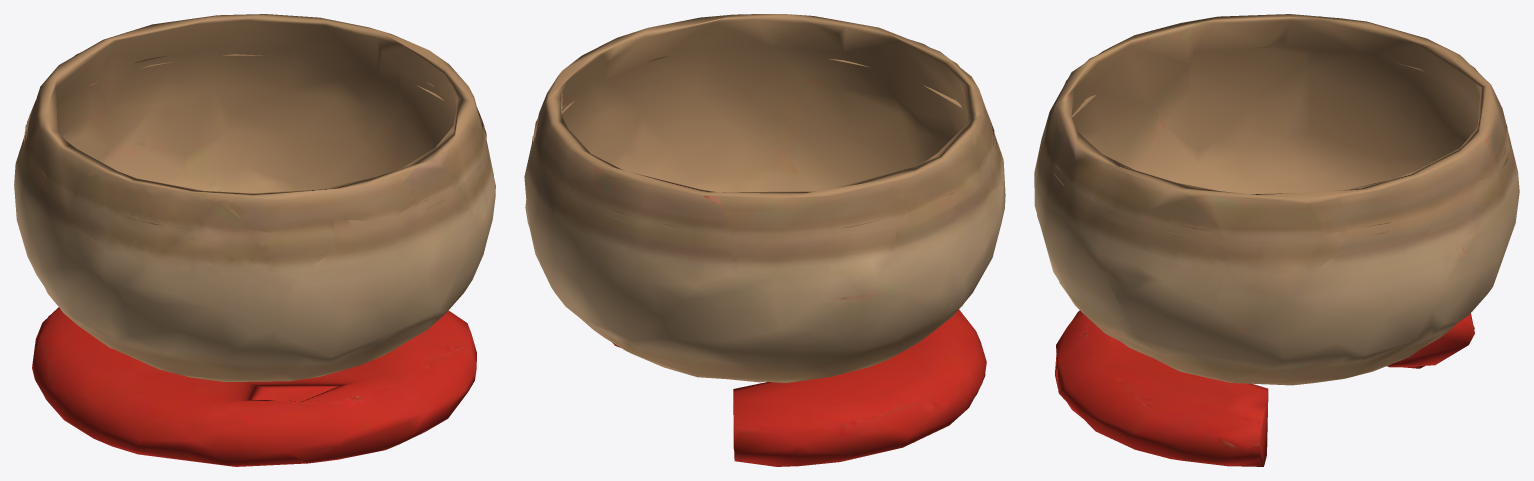
Rendered from bat.glb.
3 views of the same model, side by side, from view 1: azimuth 30°, elevation 25°; view 2: azimuth 150°, elevation 25°; view 3: azimuth 270°, elevation 25° (orthographic).
Size of the model in its own units: 0.5352 by 0.35 by 0.5349.
Materials: 1 (1 with a texture image).
